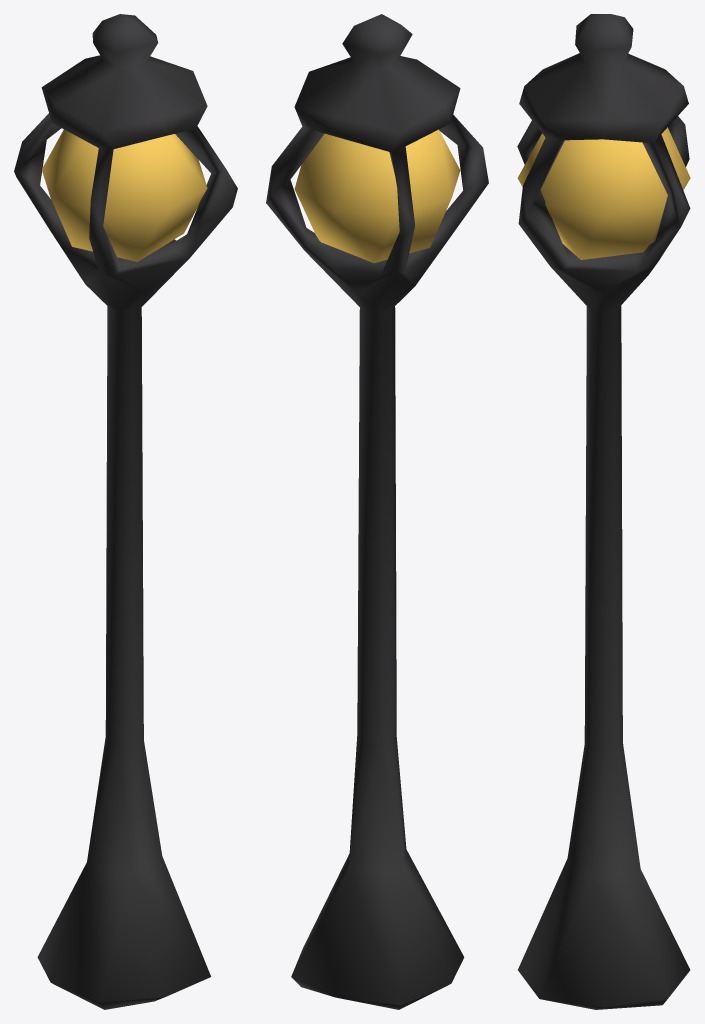
Rendered from Pole.fbx.
The picture shows the model from 3 angles, left to right: view 1: azimuth 30°, elevation 25°; view 2: azimuth 150°, elevation 25°; view 3: azimuth 270°, elevation 25°; orthographic projection.
Parts seen in each view (by area): view 1: Sphere; view 2: Sphere; view 3: Sphere.
Part boxes in pixels (left/top/right/bottom): Sphere: left=14, top=14, right=237, bottom=1009; Sphere: left=266, top=14, right=488, bottom=1009; Sphere: left=517, top=14, right=690, bottom=1009.
Bounding box in the file's own units: 78.39 × 482 × 78.02.
1 material, 1 textured.
